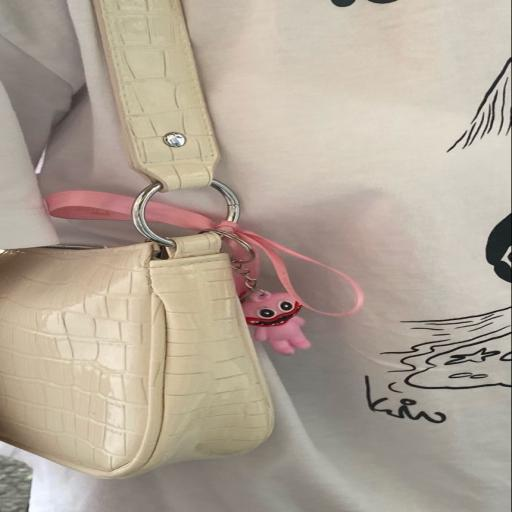door: (0, 0, 273, 478)
